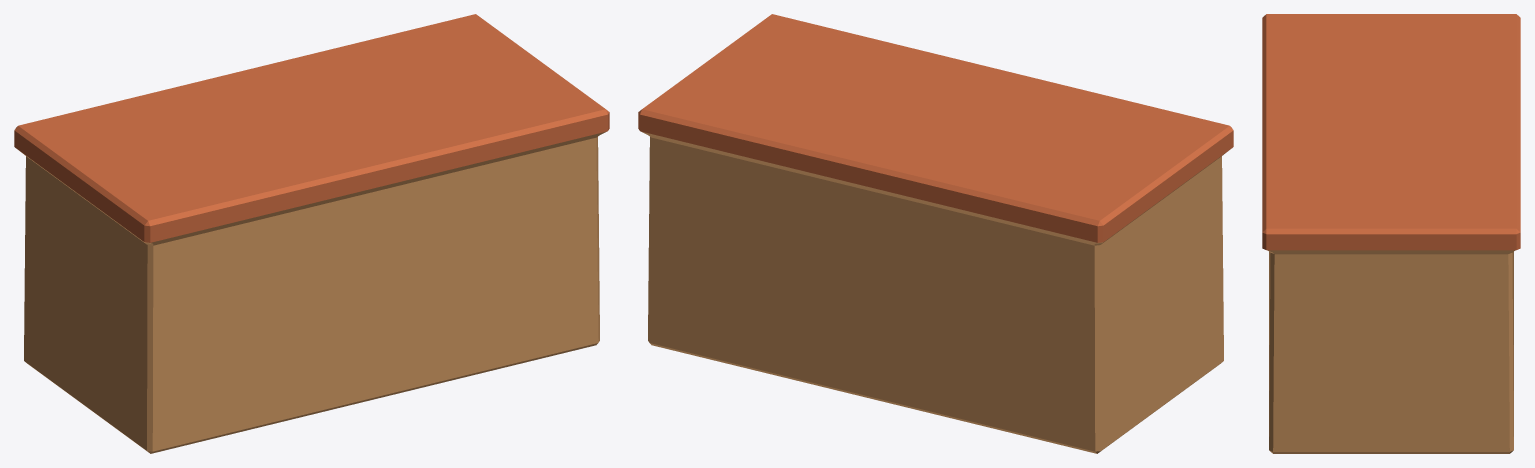
File: Props_Table_07.fbx
3 renders of one model, left to right at view 1: azimuth 30°, elevation 25°; view 2: azimuth 150°, elevation 25°; view 3: azimuth 270°, elevation 25°, orthographic. The views are drawn at different scales.
Parts seen in each view (by area): view 1: Props_Table_07; view 2: Props_Table_07; view 3: Props_Table_07.
Boxes of the visible parts, box(x1,y1,x2,y2) form: Props_Table_07: box(14, 14, 609, 453); Props_Table_07: box(638, 14, 1233, 453); Props_Table_07: box(1262, 14, 1520, 453).
Size of the model in its own units: 200 by 97.43 by 100.
